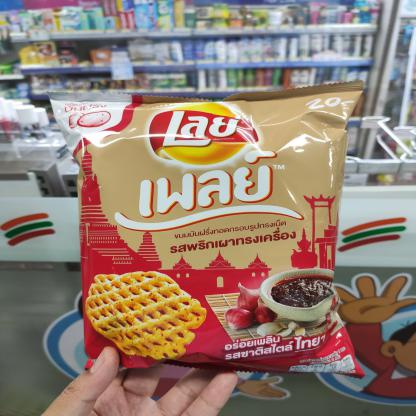potatochip: (49, 74, 373, 381)
